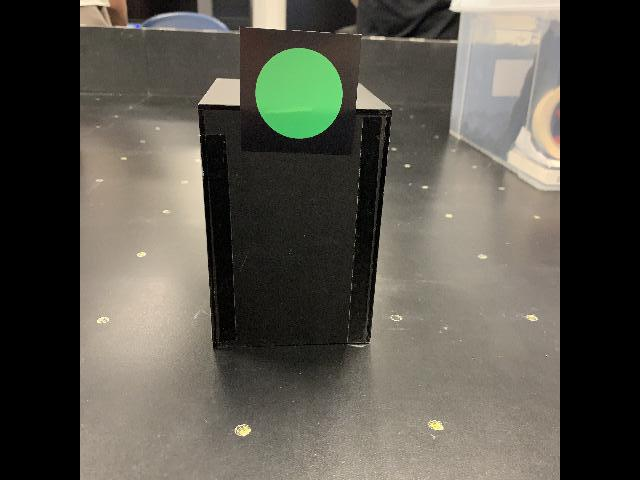go: (239, 25, 363, 157)
